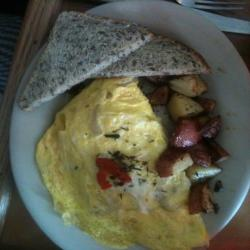bread: (16, 10, 218, 111)
omelette: (40, 81, 207, 249)
